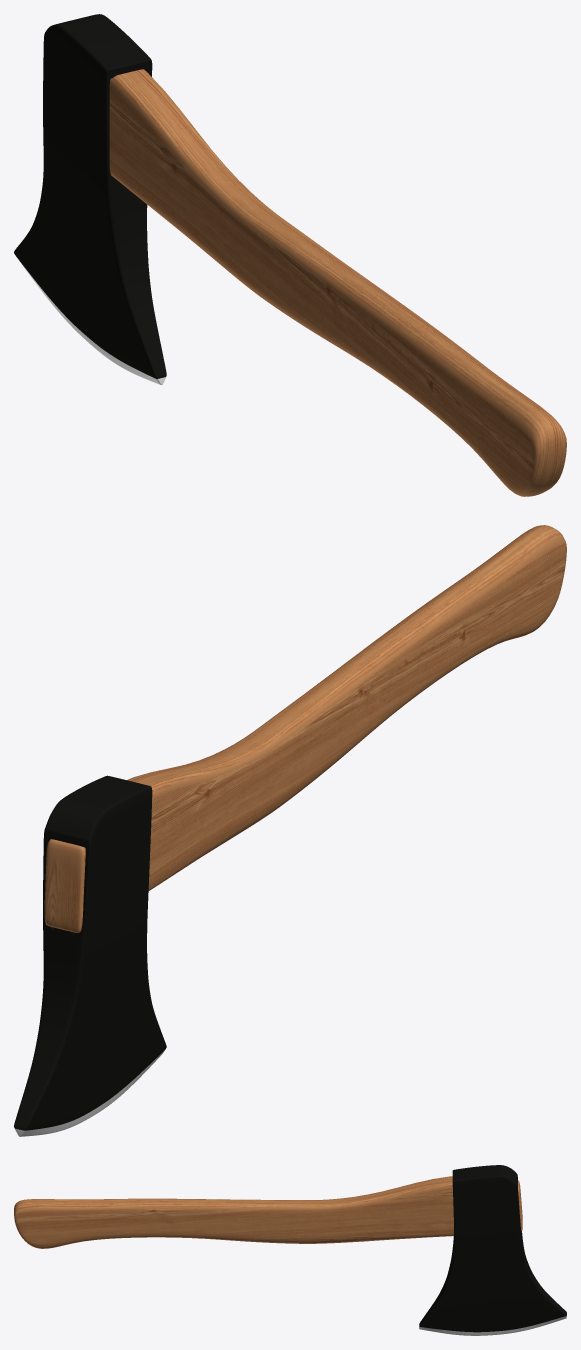
The model's file is axe.fbx.
3 renders of one model, top to bottom at view 1: azimuth 30°, elevation 25°; view 2: azimuth 150°, elevation 25°; view 3: azimuth 270°, elevation 25°, orthographic. The views are drawn at different scales.
Parts seen in each view (by area): view 1: Axe; view 2: Axe; view 3: Axe.
Part boxes in pixels (x1,y1,x2,y2): Axe: (14,14,566,496); Axe: (14,525,566,1136); Axe: (14,1165,566,1335).
Size of the model in its own units: 0.0619 by 0.4079 by 1.24.
